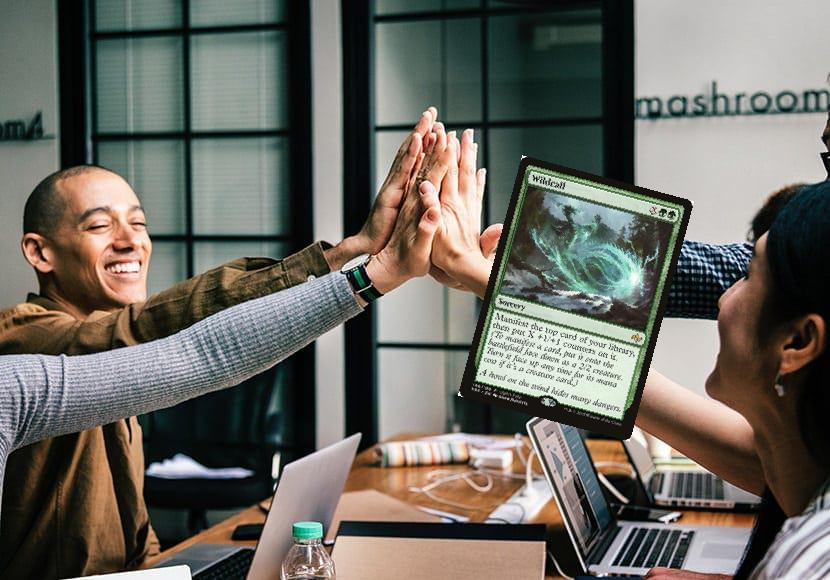mtgCard: (457, 155, 695, 442)
